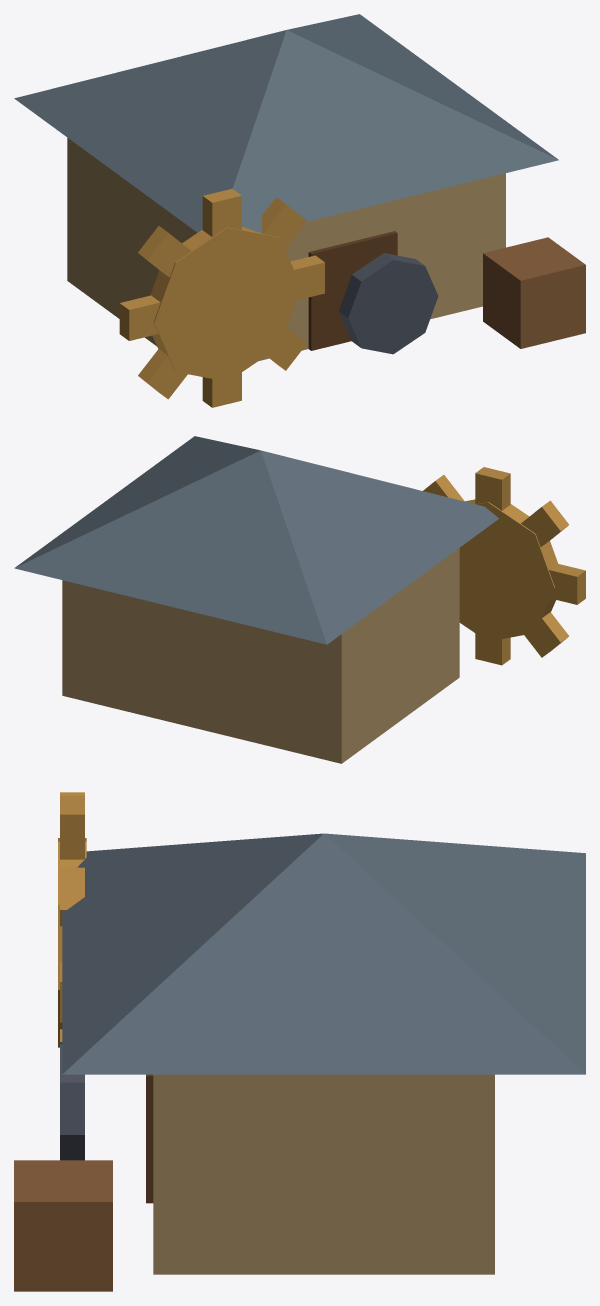
Rendered from workshop.glb.
3 views of the same model, one above another, from view 1: azimuth 30°, elevation 25°; view 2: azimuth 150°, elevation 25°; view 3: azimuth 270°, elevation 25° (orthographic). The views are drawn at different scales.
Parts seen in each view (by area): view 1: workshop; view 2: workshop; view 3: workshop.
Part boxes in pixels (<box>): workshop: <box>14,14,585,407</box>; workshop: <box>14,436,585,763</box>; workshop: <box>14,792,585,1291</box>.
Size of the model in its own units: 0.37 by 0.2105 by 0.3181.
